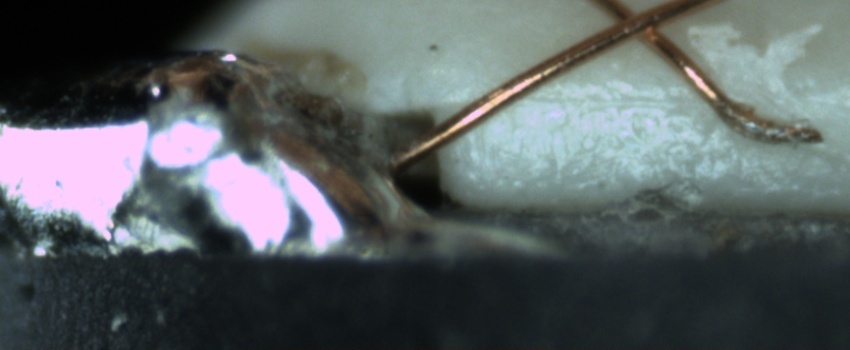CL: (593, 2, 683, 54)
DL: (501, 76, 716, 137)
